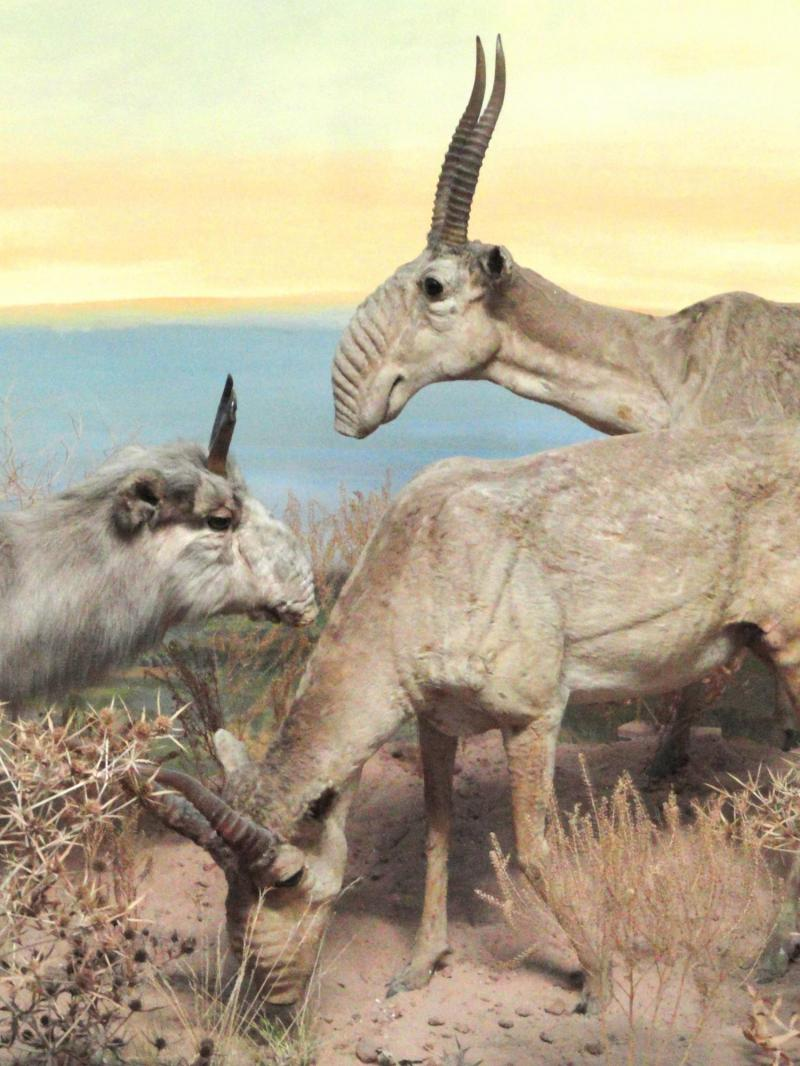saiga: (152, 418, 800, 1015), (321, 17, 800, 443)
